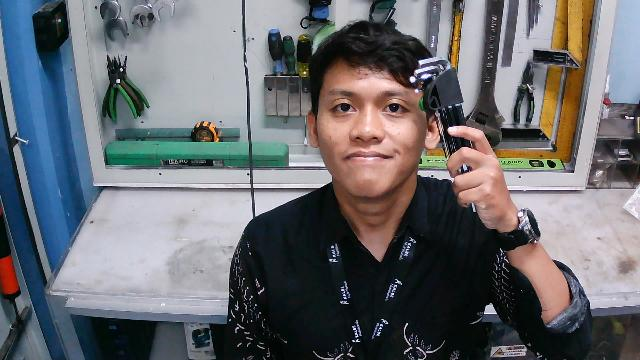kunci_l: (411, 57, 480, 216)
